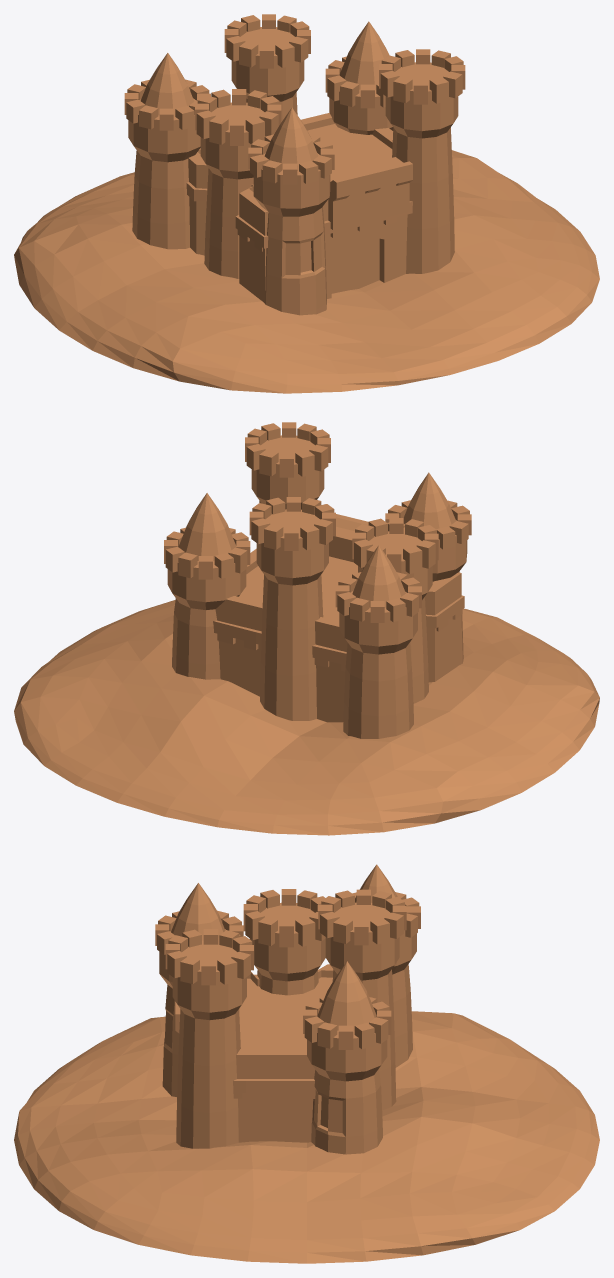
The model's file is sand_castle_from_poly_by_google(2).glb.
The picture shows the model from 3 angles, top to bottom: view 1: azimuth 30°, elevation 25°; view 2: azimuth 150°, elevation 25°; view 3: azimuth 270°, elevation 25°; orthographic projection. The views are drawn at different scales.
Visible parts, largest first — view 1: Object_4; view 2: Object_4; view 3: Object_4.
Boxes of the visible parts, x1,y1,x2,y2 form: Object_4: (14, 14, 599, 393); Object_4: (14, 422, 599, 835); Object_4: (14, 864, 599, 1263).
Size of the model in its own units: 41.18 by 17.52 by 41.18.
